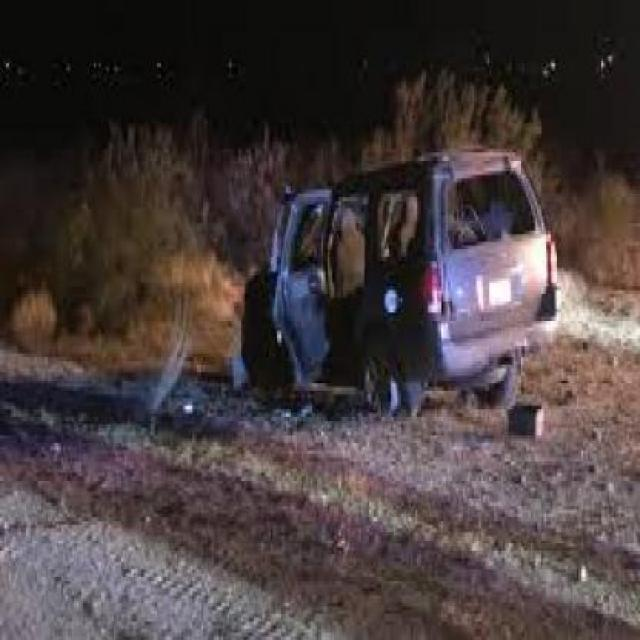accident: (216, 133, 599, 472)
